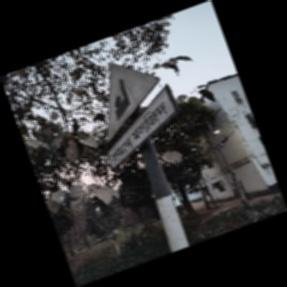Mosque in front: (95, 55, 182, 179)
